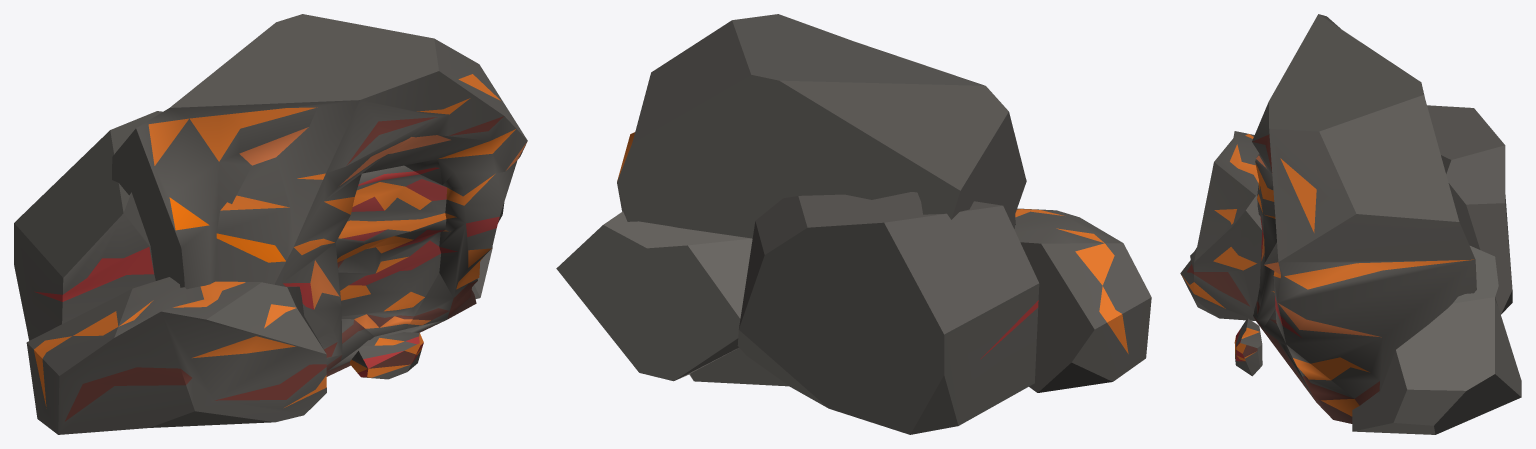
File: iron_rock.fbx
3 views of the same model, side by side, from view 1: azimuth 30°, elevation 25°; view 2: azimuth 150°, elevation 25°; view 3: azimuth 270°, elevation 25° (orthographic). The views are drawn at different scales.
Visible parts, largest first — view 1: Cube.005, stone; view 2: Cube.005; view 3: Cube.005, stone.
Part boxes in pixels (x1,y1,x2,y2): Cube.005: (14, 14, 527, 434); stone: (350, 332, 423, 379); Cube.005: (556, 14, 1151, 434); Cube.005: (1180, 14, 1521, 434); stone: (1234, 318, 1262, 376).
Bounding box in the file's own units: 394 × 219 × 245.
